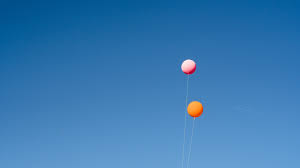Balloon: (186, 101, 203, 118), (181, 59, 195, 75)
